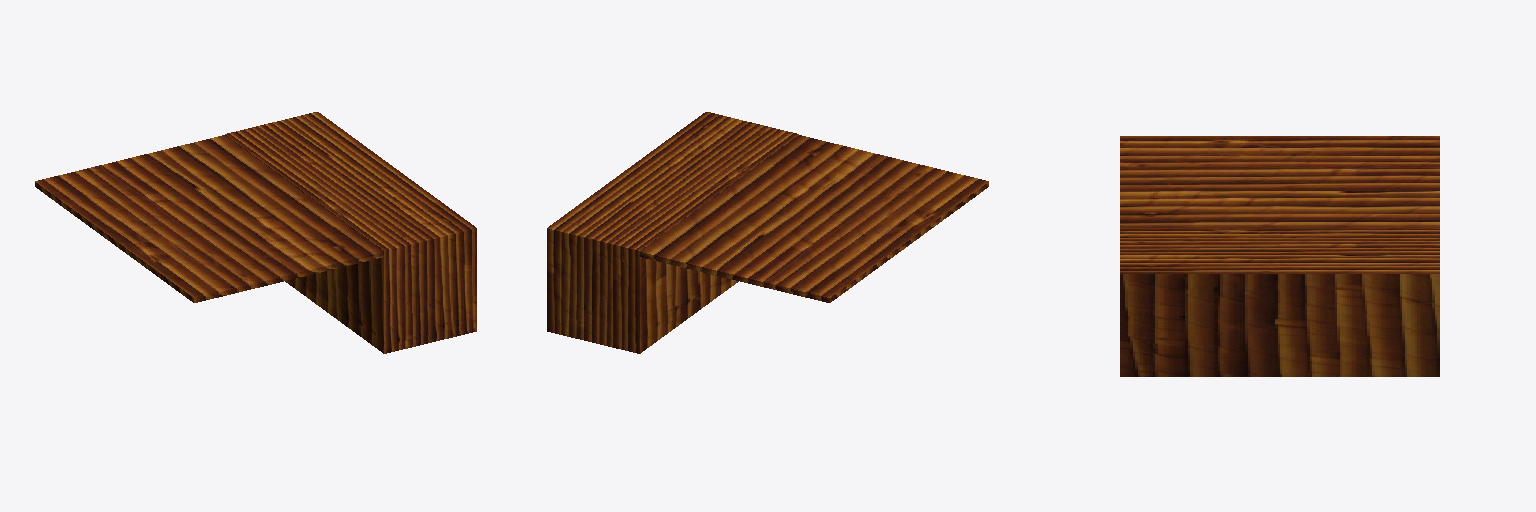
3 renders of one model, left to right at view 1: azimuth 30°, elevation 25°; view 2: azimuth 150°, elevation 25°; view 3: azimuth 270°, elevation 25°, orthographic.
Visible parts, largest first — view 1: polySurface26; view 2: polySurface26; view 3: polySurface26.
Part boxes in pixels (left/top/right/bottom): polySurface26: left=35, top=112, right=476, bottom=353; polySurface26: left=547, top=112, right=988, bottom=353; polySurface26: left=1120, top=136, right=1439, bottom=376.
Size of the model in its own units: 23.89 by 8.31 by 23.32.
1 materials, 1 textured.